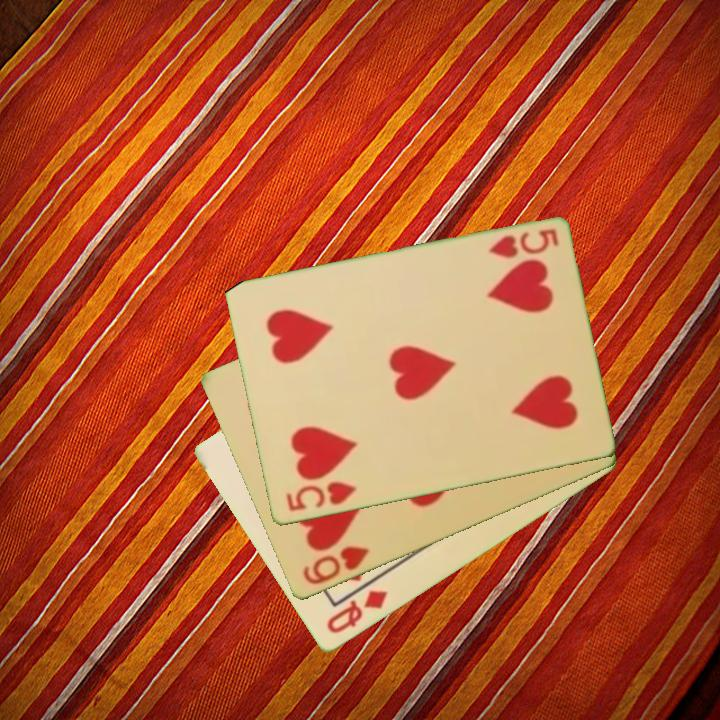5h: (282, 478, 359, 515), (484, 225, 561, 262)
6h: (299, 543, 372, 588)
Qd: (322, 587, 391, 638)
